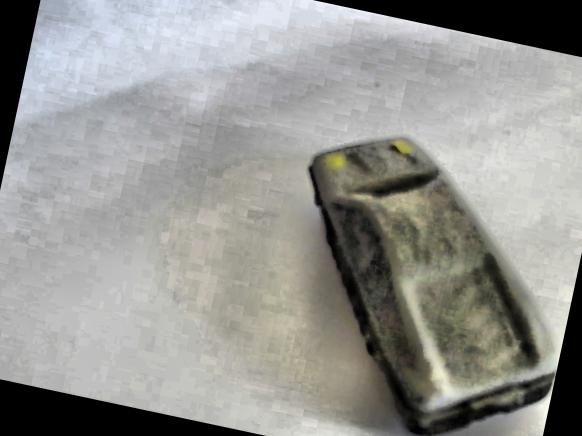normal_car: (243, 103, 582, 436)
